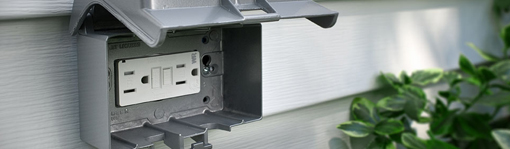outlet: (120, 68, 151, 97), (173, 60, 199, 89)
